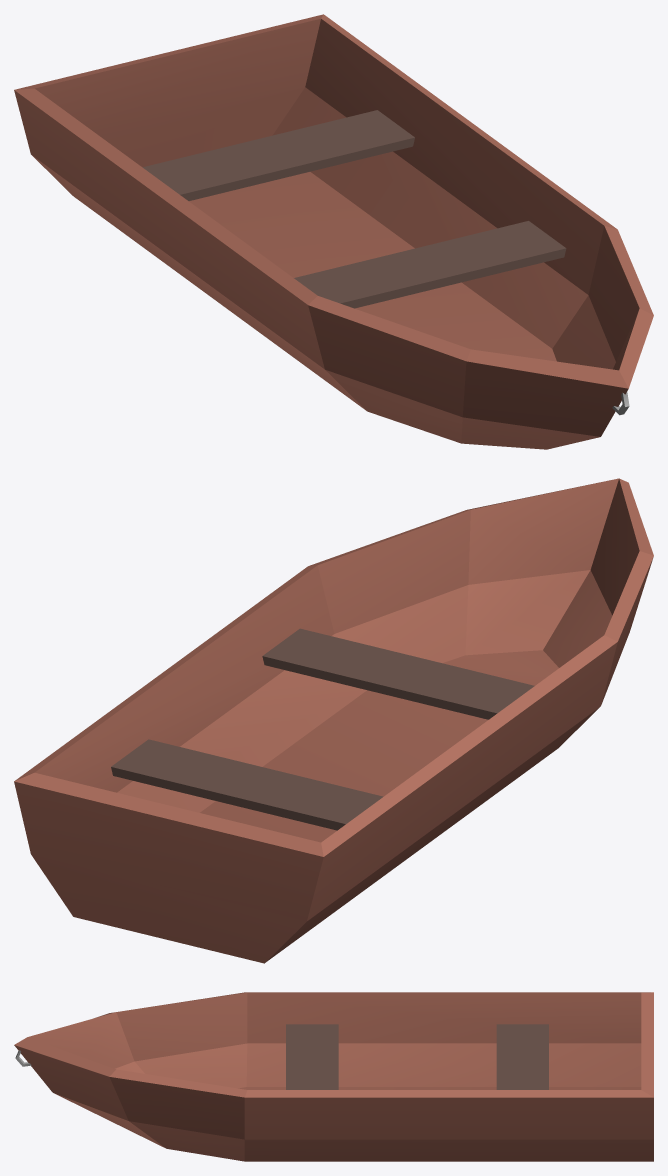
Rendered from village_boat_001.glb.
3 renders of one model, top to bottom at view 1: azimuth 30°, elevation 25°; view 2: azimuth 150°, elevation 25°; view 3: azimuth 270°, elevation 25°, orthographic. The views are drawn at different scales.
Parts seen in each view (by area): view 1: props_023; view 2: props_023; view 3: props_023.
Part boxes in pixels (x1=…): props_023: x1=14, y1=14, x2=653, y2=449; props_023: x1=14, y1=478, x2=653, y2=963; props_023: x1=14, y1=992, x2=653, y2=1161.
Bounding box in the file's own units: 2.37 × 0.9663 × 6.09.
1 material, 1 textured.
